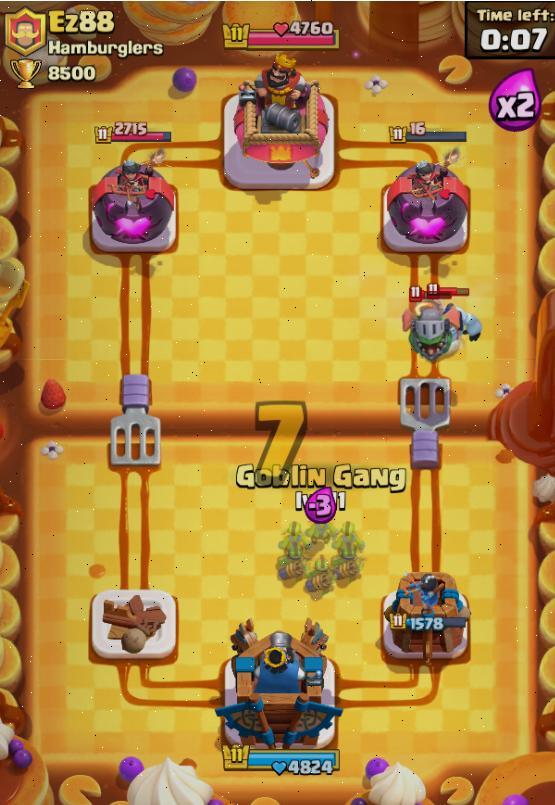EInfernoDrag: (408, 300, 458, 362)
EKingTower: (224, 54, 334, 190)
EnemyPrincessTower: (382, 149, 469, 253), (89, 149, 176, 253)
OGoblin: (336, 521, 363, 556), (307, 524, 332, 549), (283, 521, 302, 545)
OSpearGoblin: (276, 535, 305, 582), (304, 554, 335, 597), (332, 545, 362, 586)
OwnKingTower: (217, 620, 341, 748)
OwnPrincessTower: (382, 572, 469, 662)
TowerDown: (90, 589, 177, 662)
